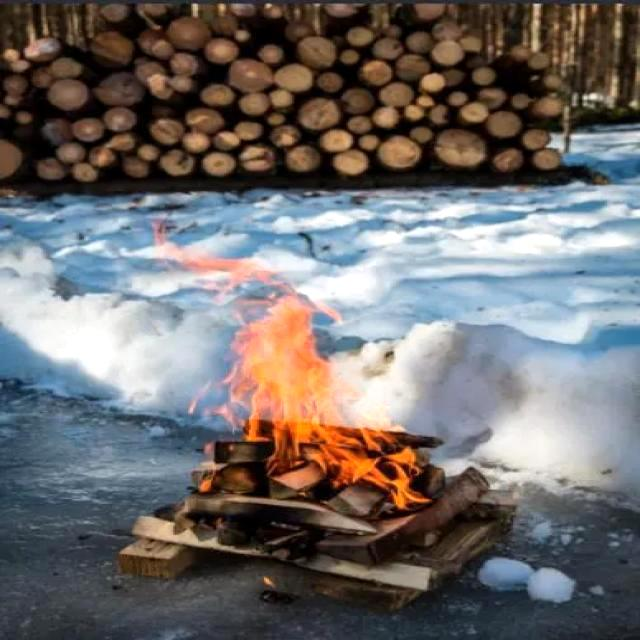fire: (1, 0, 640, 640), (149, 206, 431, 520)
